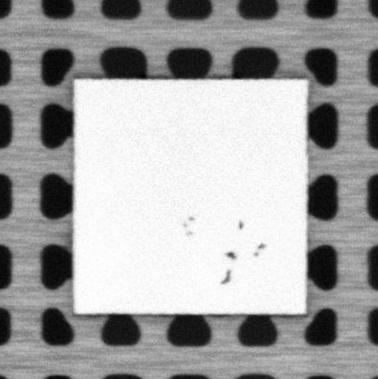DIE_INK: (182, 213, 197, 236), (220, 267, 232, 286), (254, 242, 264, 258), (234, 218, 245, 229), (224, 249, 235, 259)
